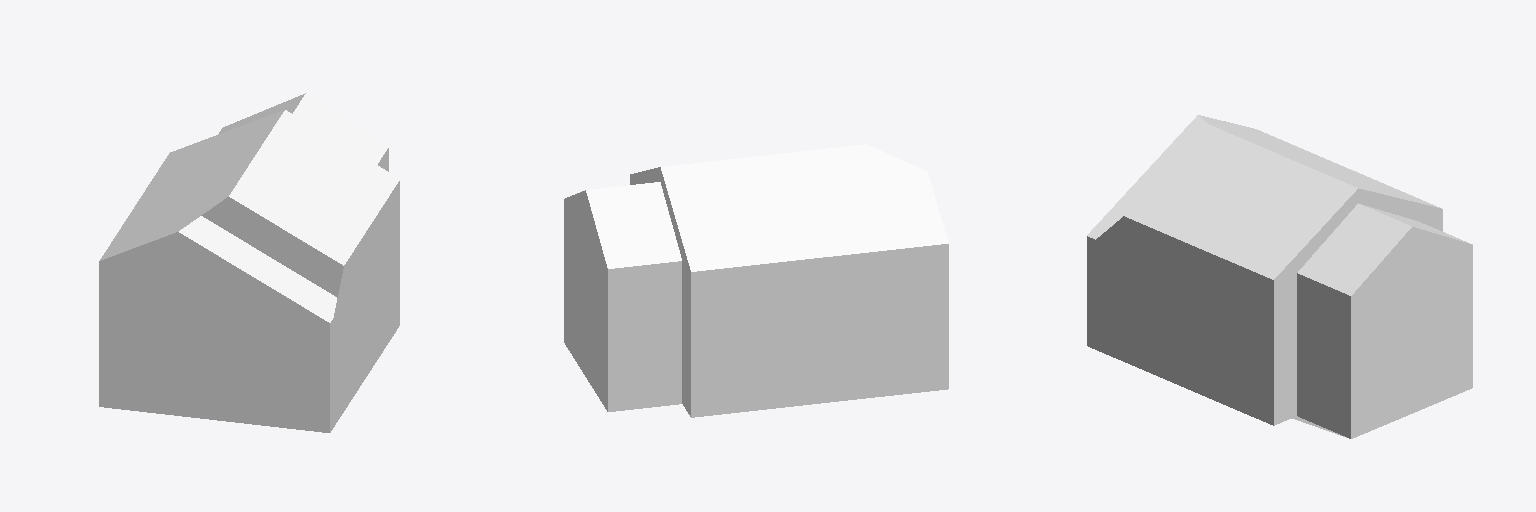
Rendered from house_Shape 259.obj.
3 renders of one model, left to right at view 1: azimuth 30°, elevation 25°; view 2: azimuth 150°, elevation 25°; view 3: azimuth 270°, elevation 25°, orthographic.
Visible parts, largest first — view 1: CityEngineMaterial_164, CityEngineMaterial_21, CityEngineMaterial_165; view 2: CityEngineMaterial_21, CityEngineMaterial_164, CityEngineMaterial_165, CityEngineMaterial_166; view 3: CityEngineMaterial_164, CityEngineMaterial_21, CityEngineMaterial_165, CityEngineMaterial_166.
Boxes of the visible parts, <box> form: CityEngineMaterial_164: <box>99,197,399,432</box>; CityEngineMaterial_21: <box>100,93,399,322</box>; CityEngineMaterial_165: <box>99,181,399,334</box>; CityEngineMaterial_21: <box>586,144,948,271</box>; CityEngineMaterial_164: <box>564,245,948,417</box>; CityEngineMaterial_165: <box>564,167,948,318</box>; CityEngineMaterial_166: <box>608,261,681,411</box>; CityEngineMaterial_164: <box>1087,248,1472,438</box>; CityEngineMaterial_21: <box>1087,115,1472,295</box>; CityEngineMaterial_165: <box>1087,121,1472,340</box>; CityEngineMaterial_166: <box>1297,273,1350,438</box>.
Size of the model in its own units: 16.15 by 9.24 by 16.04.